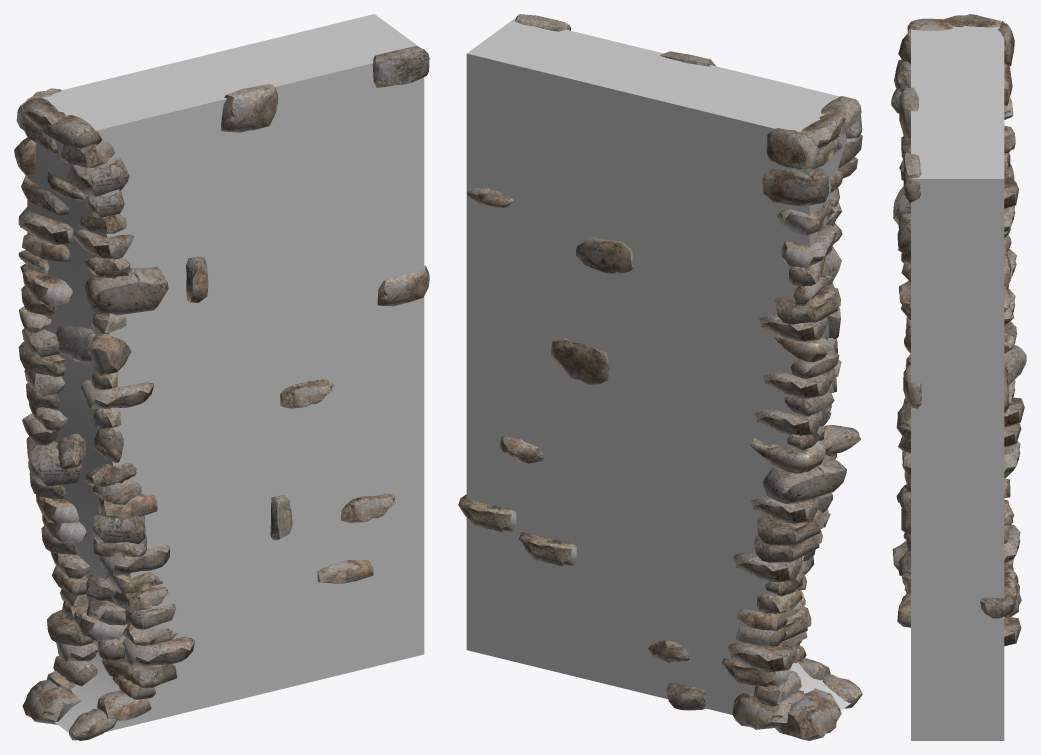
File: SM_Wall06.FBX
3 views of the same model, side by side, from view 1: azimuth 30°, elevation 25°; view 2: azimuth 150°, elevation 25°; view 3: azimuth 270°, elevation 25° (orthographic). The views are drawn at different scales.
Visible parts, largest first — view 1: SM_Wall06; view 2: SM_Wall06; view 3: SM_Wall06.
Part boxes in pixels (<box>): SM_Wall06: <box>14,14,429,740</box>; SM_Wall06: <box>458,14,862,740</box>; SM_Wall06: <box>891,14,1026,740</box>.
Bounding box in the file's own units: 642 × 218 × 1020.
